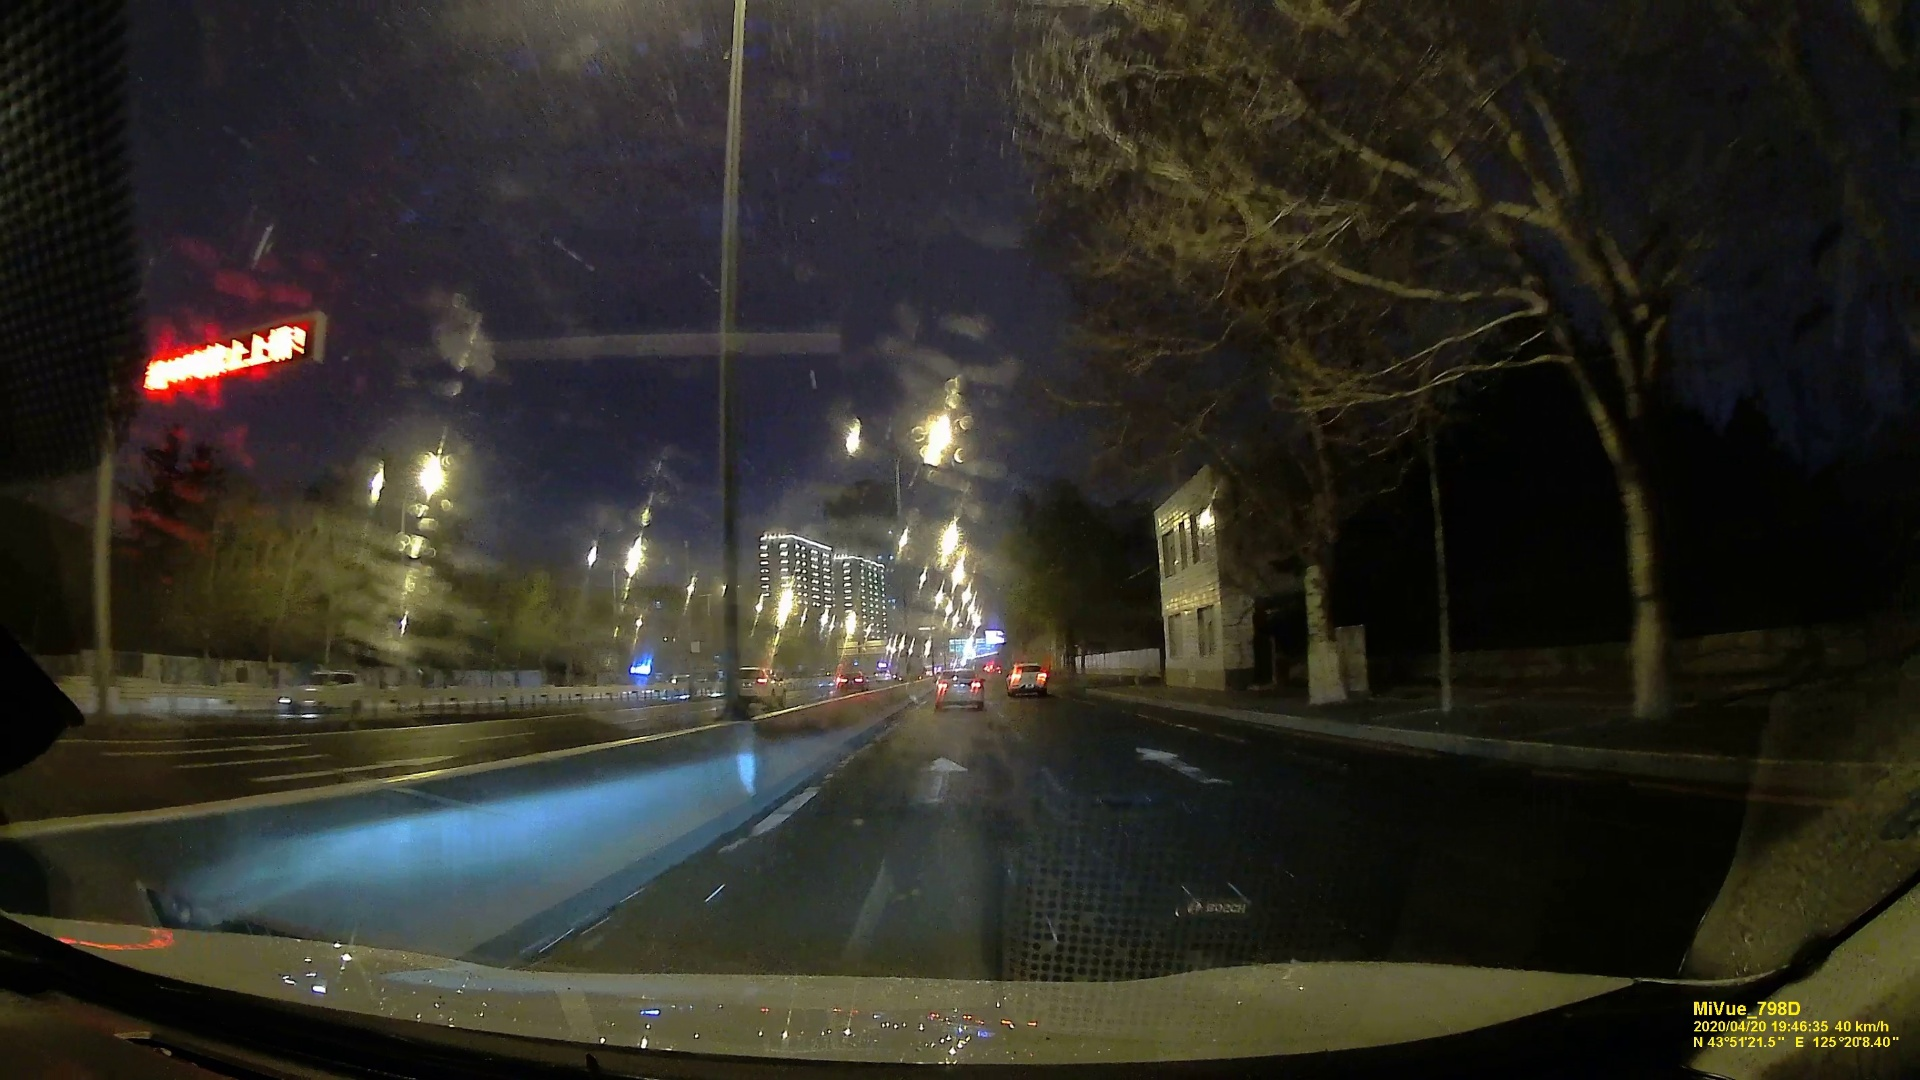vehicle: (272, 669, 377, 723), (727, 666, 789, 712), (934, 667, 986, 709), (1007, 663, 1051, 696), (837, 669, 869, 694)
